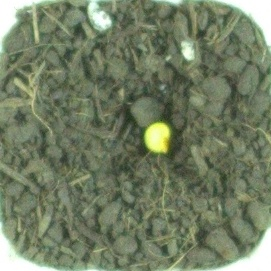chilli seed: (142, 121, 173, 155)
